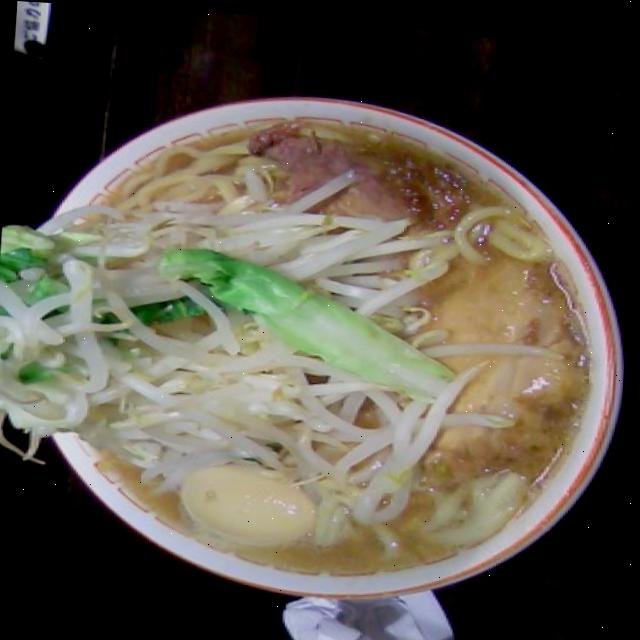面条主食: (0, 62, 639, 624)
